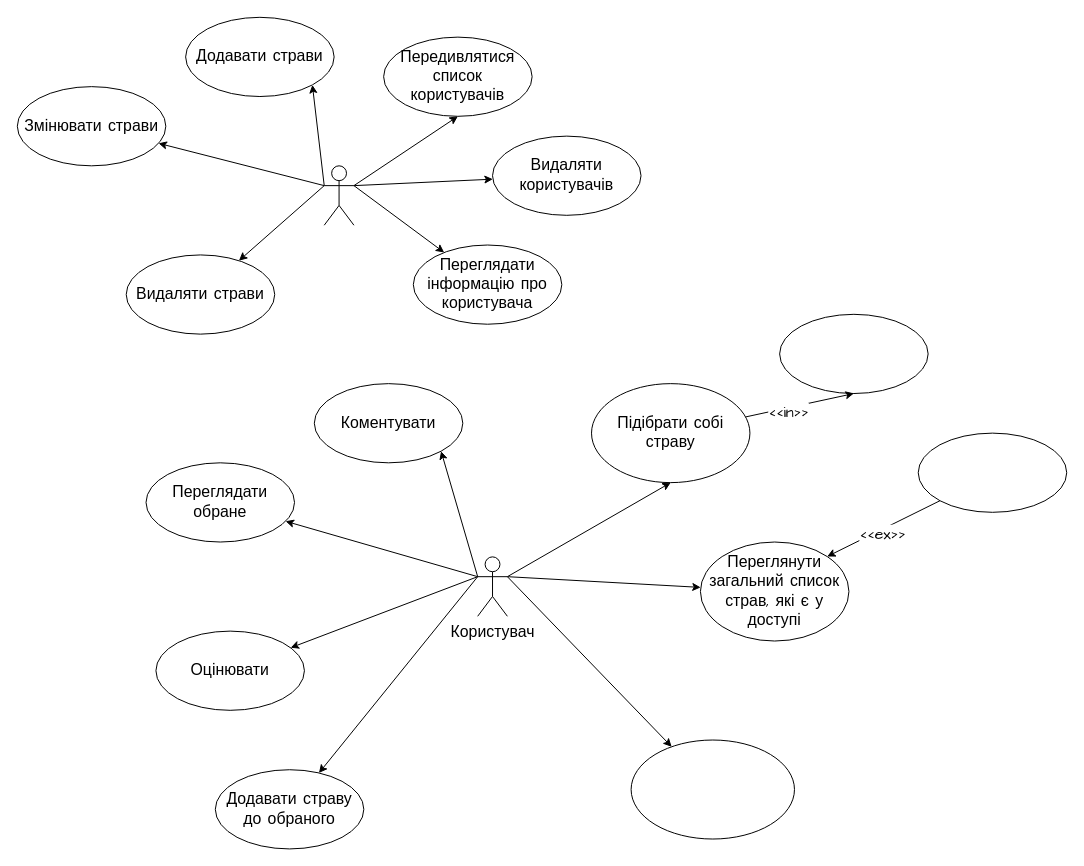
Some shapes in this 1084 by 866 pixel diagram are drawn without their labels. The centre of each missing label's shape, as x and y in pixels:
"Адміністратор" belongs at pixel 338 195.
"Обрати бажані фільтри" belongs at pixel 853 353.
"Переглянути статистику" belongs at pixel 712 789.
"Переглянути страву" belongs at pixel 992 472.
